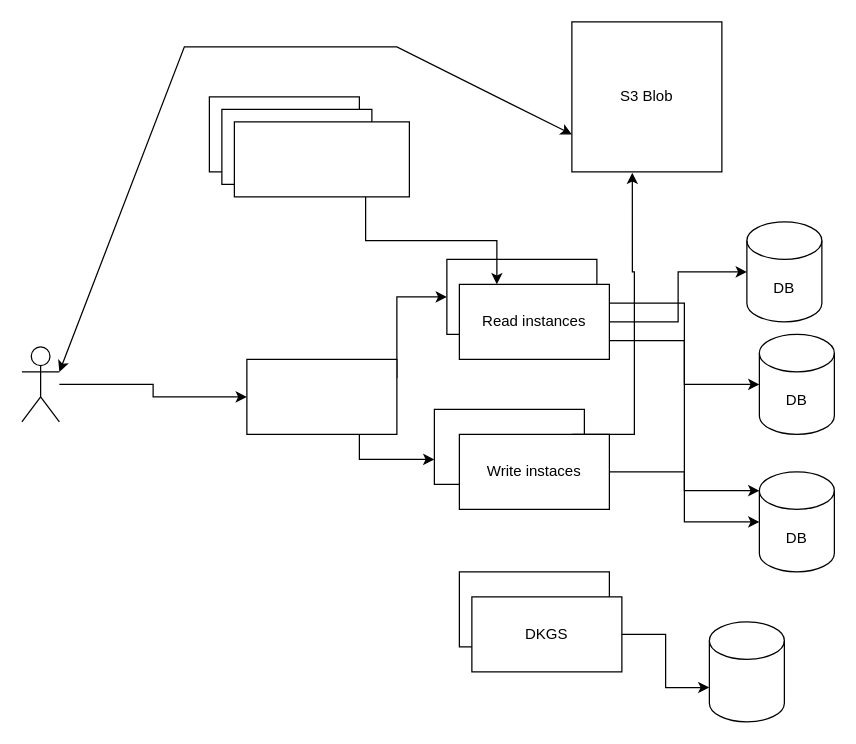
Some shapes in this 856 by 744 pixel diagram are drawn without their labels. The centre of each missing label's shape, as x and y in pixels:
"Actor" belongs at (x=40, y=384).
"API Gateway/Load balancer" belongs at (x=321, y=396).
"Cache" belongs at (x=746, y=671).
"Memecached" belongs at (x=321, y=159).
